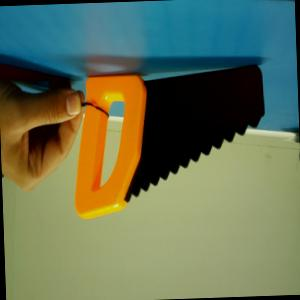serrote: (68, 64, 267, 221)
